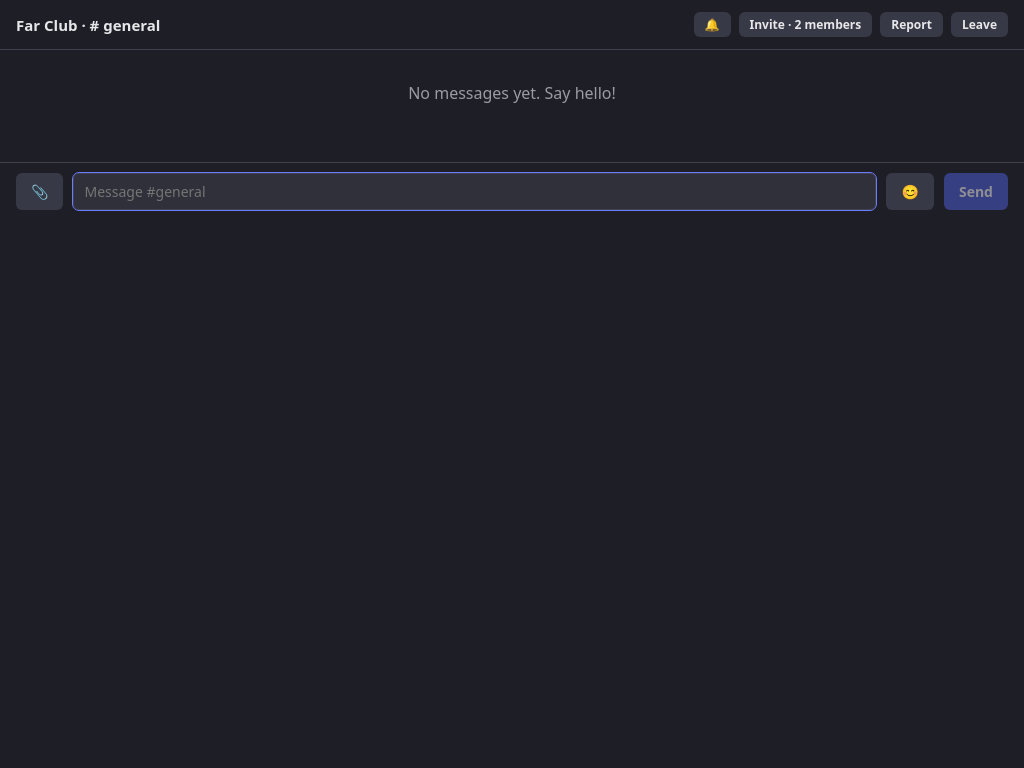
reporting the community (#58) › says the report goes to the other server for a community that lives on one
Step 1. Click the button "Report" → point(912, 24), box left=880, top=12, right=943, bottom=37
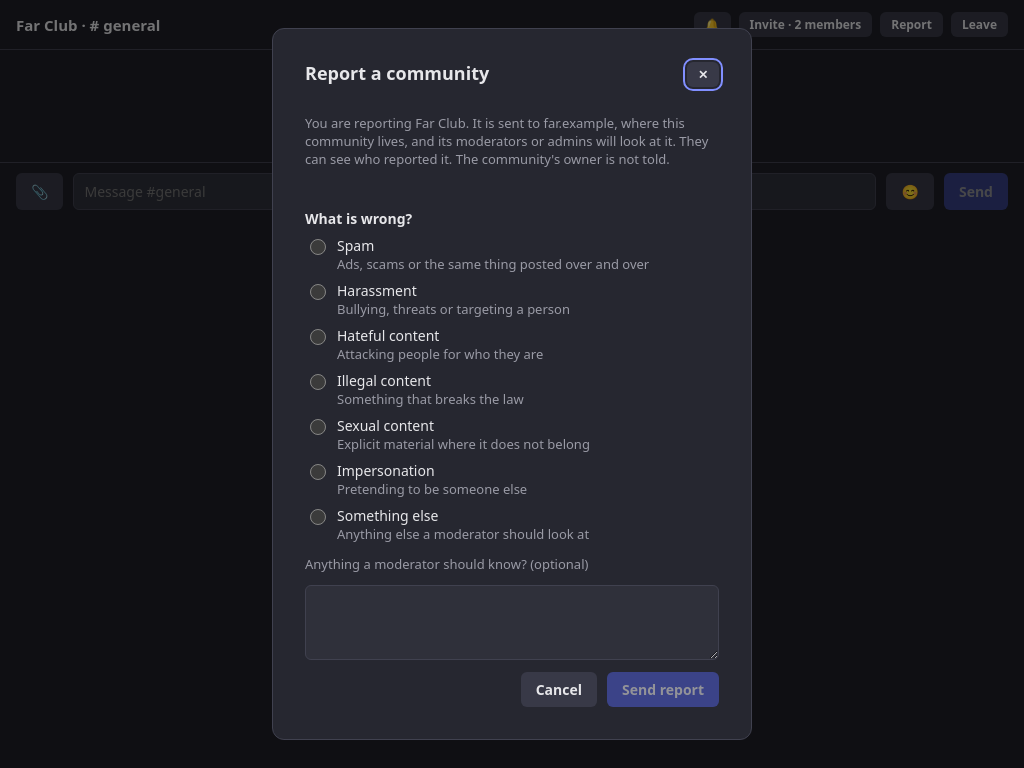
Expected: the text "It is sent to far.example, where this community lives" is shown, left=305, top=114, right=685, bottom=150
